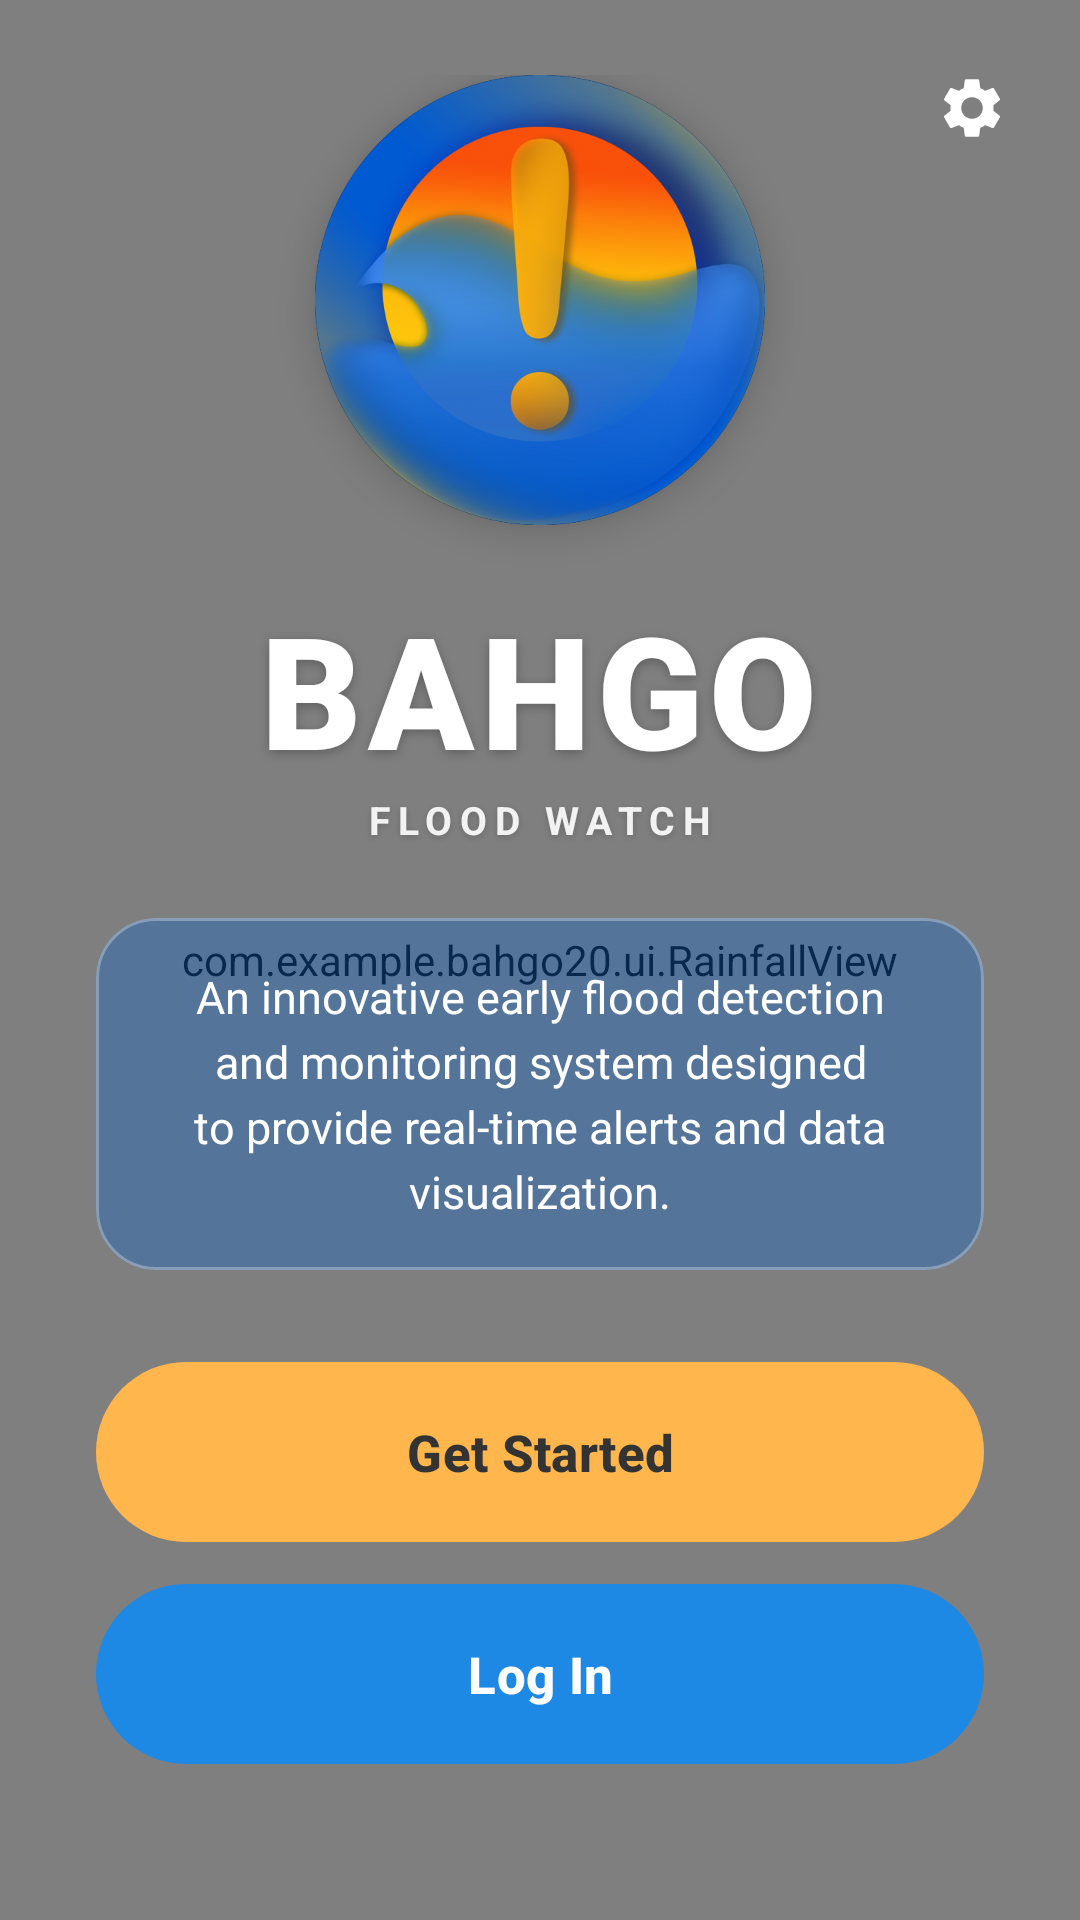

Where to tap for icons on this 1080px x 1920px app screen, as point (x, y):
Settings: point (972, 108)
